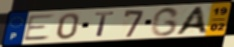0: (55, 12, 82, 41)
7: (123, 9, 145, 38)
A: (172, 5, 210, 36)
E: (22, 13, 57, 42)
G: (149, 6, 181, 38)
T: (94, 11, 117, 38)
